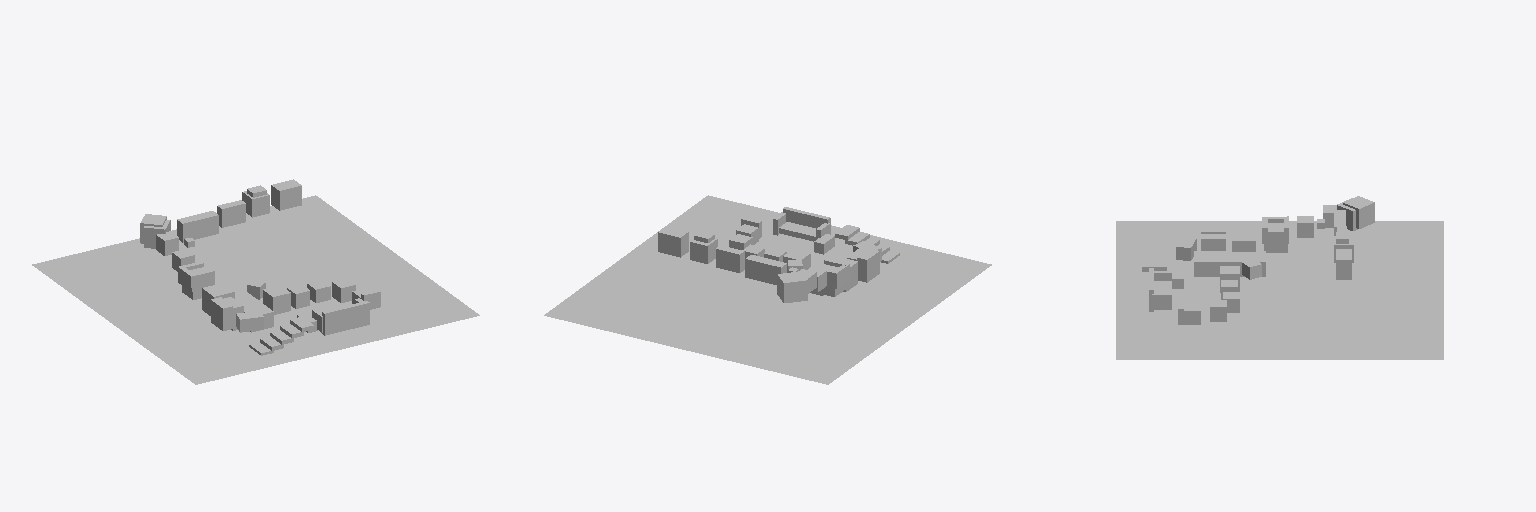
File: hitbox.obj
3 views of the same model, side by side, from view 1: azimuth 30°, elevation 25°; view 2: azimuth 150°, elevation 25°; view 3: azimuth 270°, elevation 25° (orthographic).
Visible parts, largest first — view 1: Plane, Cube.001, Cube.024, Cube.027, Cube.012, Cube.010, Cube.025, Cube.015, Cube.013; view 2: Plane, Cube.024, Cube.027, Cube.030, Cube.025, Cube.015, Cube.001, Cube.026; view 3: Plane, Cube.012, Cube.030, Cube.016.
Boxes of the visible parts, box(x1,y1,x2,y2) form: Plane: box(32, 195, 479, 384); Cube.001: box(322, 301, 369, 335); Cube.024: box(177, 211, 218, 242); Cube.027: box(271, 179, 301, 210); Cube.012: box(229, 285, 273, 332); Cube.010: box(263, 285, 290, 314); Cube.025: box(217, 200, 245, 227); Cube.015: box(211, 297, 232, 330); Cube.013: box(202, 283, 234, 315); Plane: box(544, 195, 991, 384); Cube.024: box(745, 255, 786, 284); Cube.027: box(658, 226, 688, 257); Cube.030: box(777, 272, 804, 302); Cube.025: box(716, 245, 744, 272); Cube.015: box(857, 248, 879, 282); Cube.001: box(783, 207, 830, 228); Cube.026: box(690, 238, 717, 263); Plane: box(1116, 221, 1443, 359); Cube.012: box(1194, 251, 1265, 276); Cube.030: box(1343, 196, 1374, 228); Cube.016: box(1264, 223, 1287, 252).
Size of the model in its own units: 10.57 by 2.55 by 10.57.